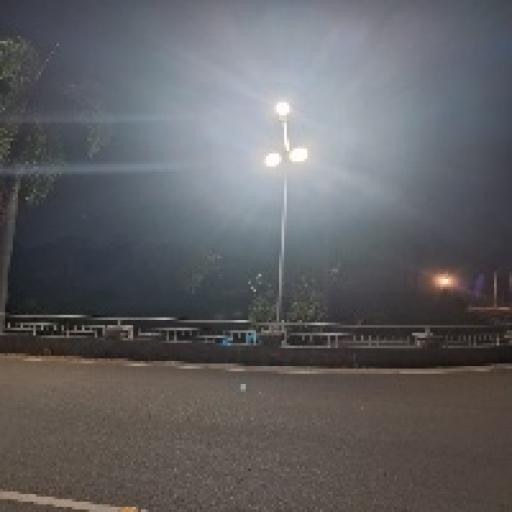Working: (271, 100, 299, 128), (284, 142, 312, 168), (257, 148, 284, 172), (431, 273, 458, 292)
